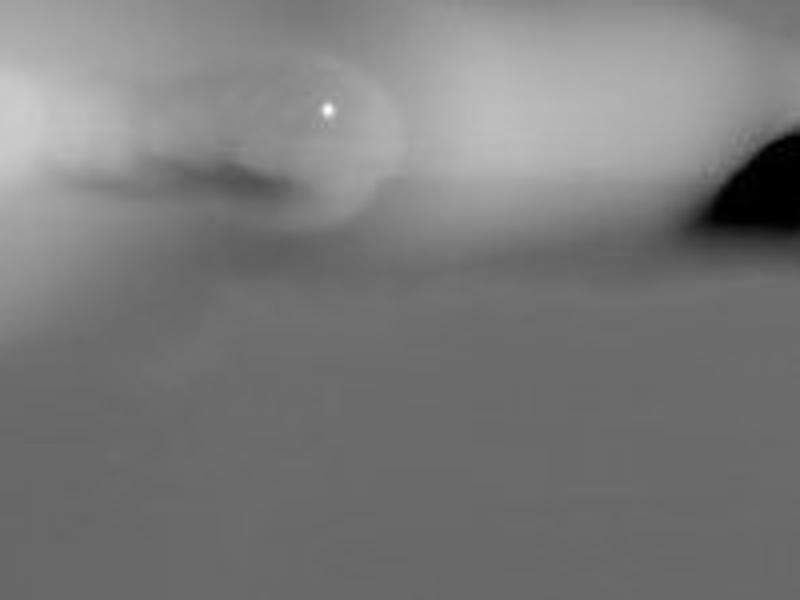defect: (696, 127, 797, 238)
